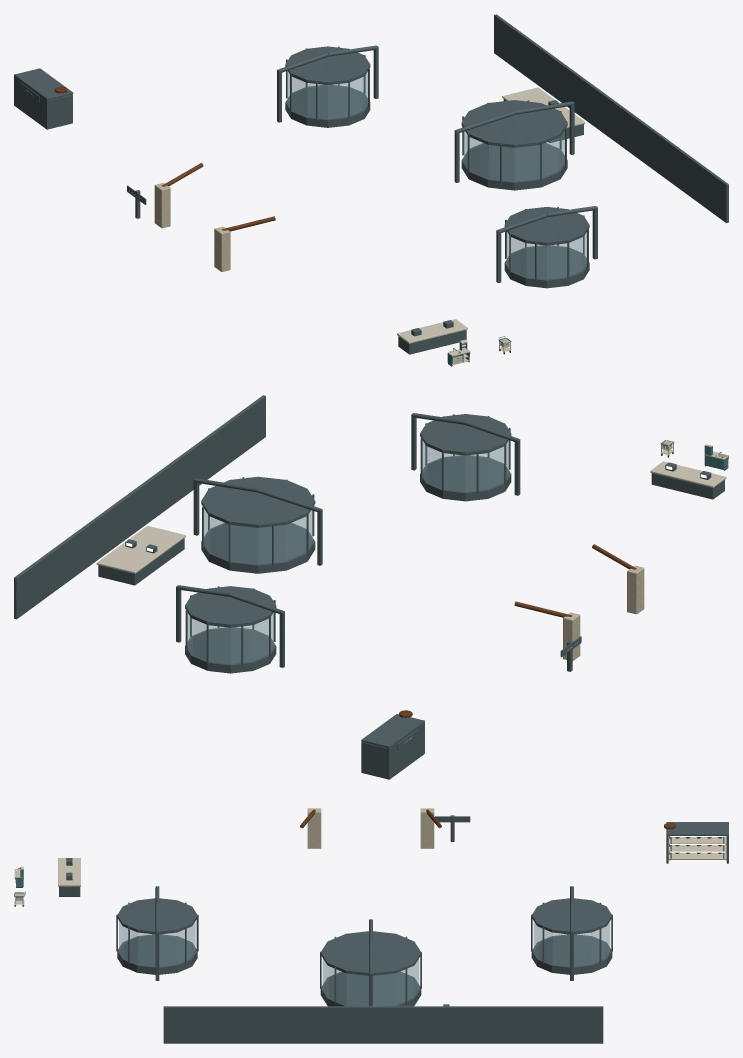
File: SOL_D05_directory_06_source001.glb
3 renders of one model, top to bottom at view 1: azimuth 30°, elevation 25°; view 2: azimuth 150°, elevation 25°; view 3: azimuth 270°, elevation 25°, orthographic. The views are drawn at different scales.
Parts seen in each view (by area): view 1: C_control_back, C_sample_cell_base1, C_sample_cap1, C_sealed_sample_shell1, C_sample_cell_base0, C_sample_cell_base2, C_sealed_sample_shell2, C_sealed_sample_shell0, C_sample_cap0, C_sample_cap2, C_care_back, C_care_top (+6 smaller); view 2: C_control_back, C_sample_cell_base1, C_sample_cap1, C_sealed_sample_shell1, C_sample_cell_base0, C_sample_cell_base2, C_sealed_sample_shell2, C_sealed_sample_shell0, C_sample_cap0, C_sample_cap2, C_atmosphere_readout_top, C_care_back (+7 smaller); view 3: C_control_back, C_sample_cap1, C_sample_cell_base1, C_sealed_sample_shell1, C_sample_cell_base2, C_sample_cell_base0, C_sealed_sample_shell0, C_sealed_sample_shell2, C_sample_cap2, C_sample_cap0, C_care_top, C_calibration_and_filters_top (+5 smaller).
Boxes of the visible parts, x1,y1,x2,y2 form: C_control_back: (494, 14, 728, 222); C_sample_cell_base1: (461, 143, 567, 190); C_sample_cap1: (461, 100, 567, 147); C_sealed_sample_shell1: (463, 130, 564, 181); C_sample_cell_base0: (285, 85, 370, 127); C_sample_cell_base2: (504, 245, 589, 288); C_sealed_sample_shell2: (506, 232, 586, 279); C_sealed_sample_shell0: (287, 71, 367, 118); C_sample_cap0: (285, 46, 370, 84); C_sample_cap2: (504, 207, 589, 245); C_care_back: (14, 74, 48, 129); C_care_top: (16, 68, 73, 99); C_control_back: (14, 395, 265, 619); C_sample_cell_base1: (201, 523, 315, 573); C_sample_cap1: (201, 476, 315, 527); C_sealed_sample_shell1: (204, 509, 312, 564); C_sample_cell_base0: (185, 627, 276, 673); C_sample_cell_base2: (420, 455, 511, 501); C_sealed_sample_shell2: (422, 440, 509, 491); C_sealed_sample_shell0: (187, 612, 273, 663); C_sample_cap0: (185, 586, 276, 627); C_sample_cap2: (420, 414, 511, 455); C_atmosphere_readout_top: (96, 526, 185, 573); C_care_back: (387, 720, 424, 779); C_control_back: (163, 1006, 603, 1043); C_sample_cap1: (321, 931, 420, 975); C_sample_cell_base1: (320, 971, 421, 1006); C_sealed_sample_shell1: (322, 958, 419, 1005); C_sample_cell_base2: (117, 934, 197, 974); C_sample_cell_base0: (531, 934, 612, 974); C_sealed_sample_shell0: (533, 921, 610, 966); C_sealed_sample_shell2: (119, 921, 195, 966); C_sample_cap2: (117, 898, 197, 934); C_sample_cap0: (532, 898, 611, 934); C_care_top: (666, 823, 728, 835); C_calibration_and_filters_top: (58, 858, 80, 886).
Size of the model in its own units: 38.29 by 4.76 by 56.92.
Materials: 20 (18 with a texture image).
